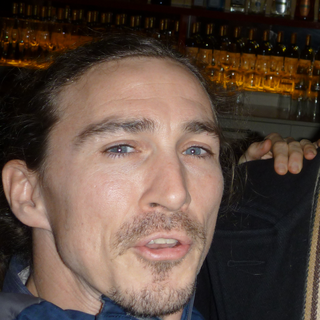eye: (97, 135, 142, 161), (174, 139, 213, 161)
